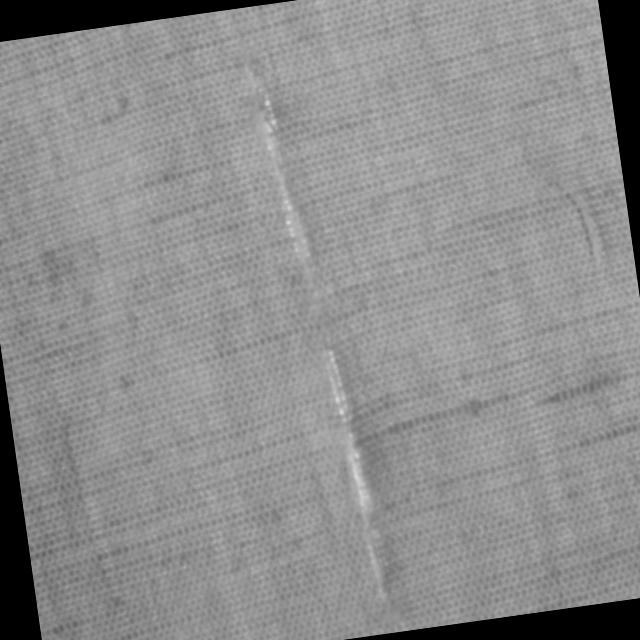thread error: (246, 45, 404, 610)
